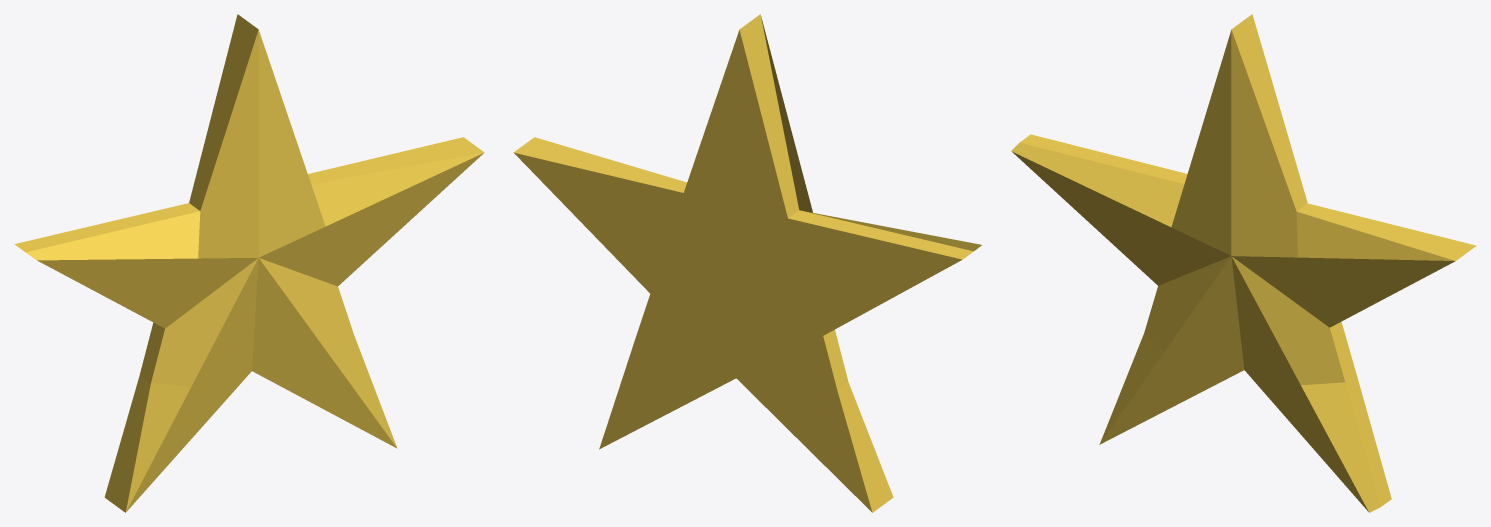
Rendered from yildiz.fbx.
3 renders of one model, left to right at view 1: azimuth 30°, elevation 25°; view 2: azimuth 150°, elevation 25°; view 3: azimuth 330°, elevation 25°, orthographic.
Parts seen in each view (by area): view 1: Plane; view 2: Plane; view 3: Plane.
Boxes of the visible parts, x1=… form: Plane: x1=14, y1=14, x2=484, y2=512; Plane: x1=513, y1=14, x2=981, y2=512; Plane: x1=1011, y1=14, x2=1476, y2=512.
Bounding box in the file's own units: 498 × 481 × 40.51.
